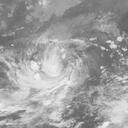cyclone: (15, 38, 89, 104)
